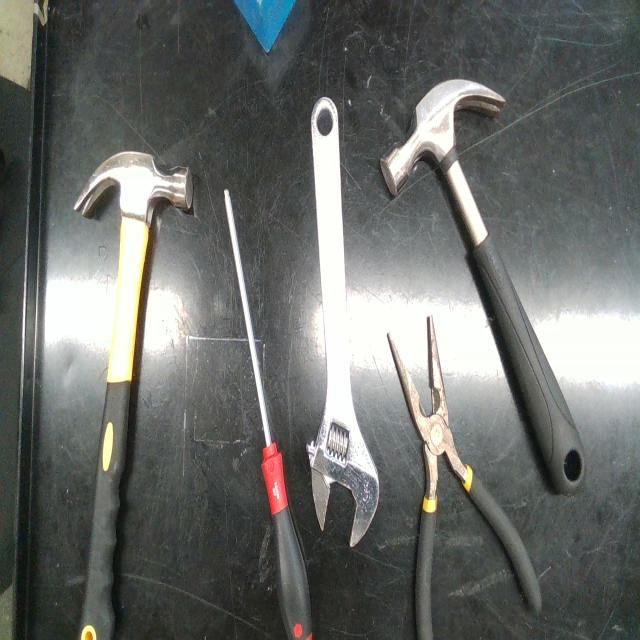Screwdriver: (224, 189, 311, 639)
